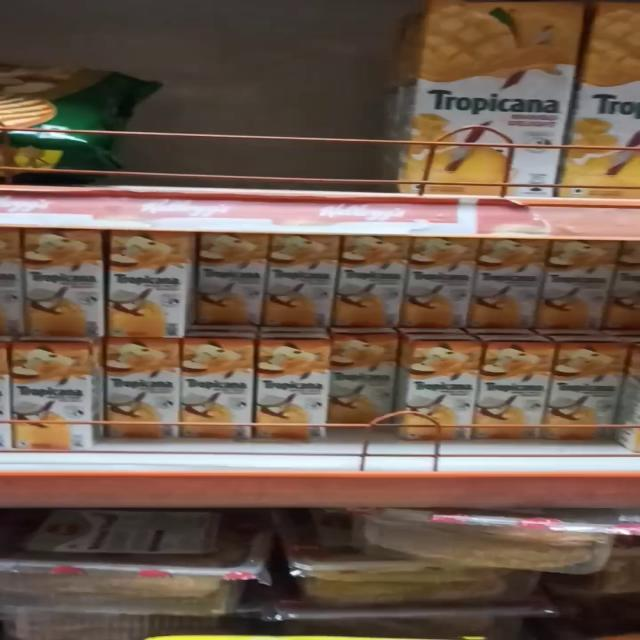Tropicana: (400, 0, 558, 198), (16, 231, 121, 347), (105, 229, 201, 344), (167, 331, 258, 450), (5, 346, 101, 457), (96, 339, 182, 453), (406, 236, 492, 339), (256, 333, 329, 449), (332, 231, 412, 334), (263, 233, 345, 333), (402, 337, 474, 441), (193, 232, 270, 329), (326, 330, 398, 428), (540, 242, 614, 337), (473, 238, 544, 337), (478, 337, 546, 434), (553, 343, 619, 435)
